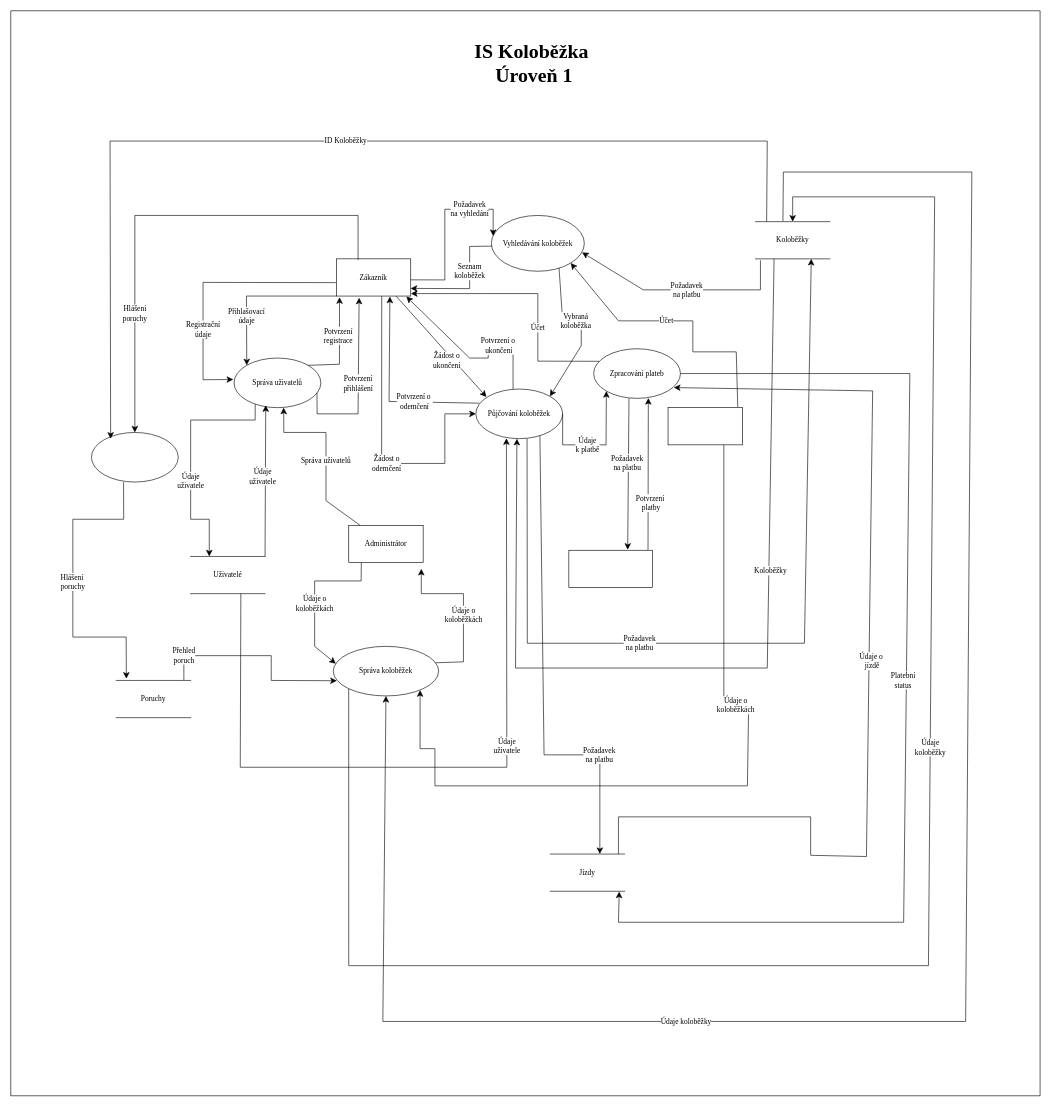
The diagram is 1051 pixels wide and 1107 high, and some of its shapes have lost their labels. Here are the shapes that lost their labels. From the top down, the centre of each, then its label:
point (704, 426): GPS Systém
point (134, 457): Evidence poruch
point (610, 568): Platební brána
